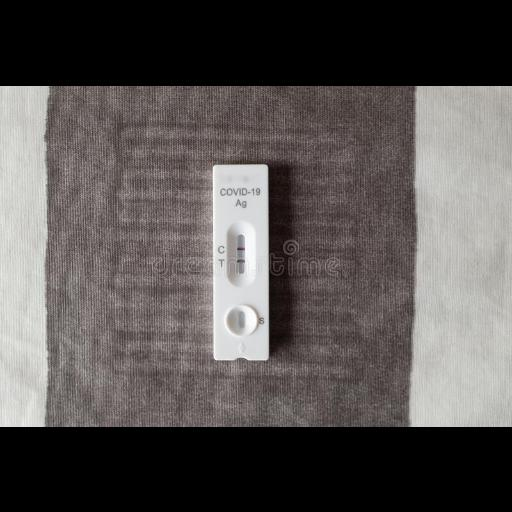Pos: (212, 165, 270, 359)
